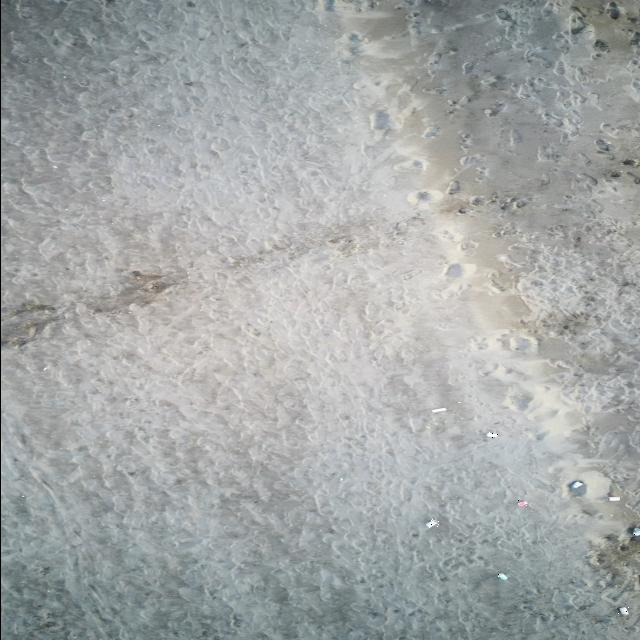Garbage: (568, 480, 586, 495), (607, 0, 619, 19), (444, 263, 461, 276), (447, 180, 459, 192), (424, 519, 437, 527), (631, 527, 639, 540), (516, 499, 527, 507), (617, 607, 627, 615), (497, 572, 507, 580), (432, 407, 446, 412), (607, 495, 620, 500), (487, 432, 497, 436)
